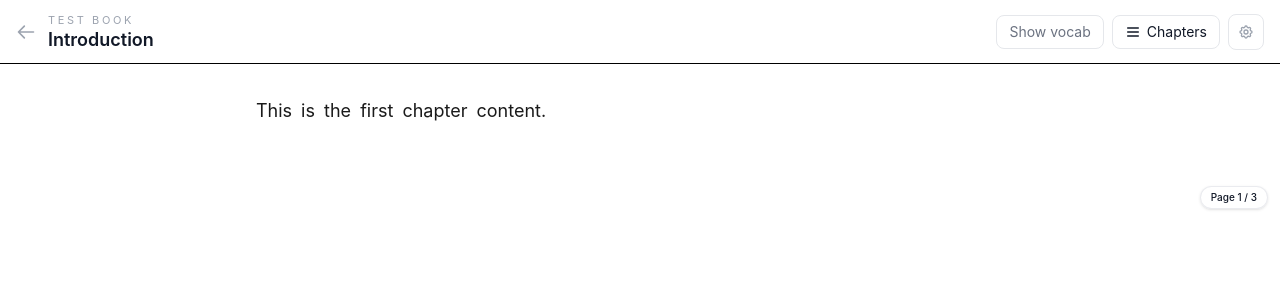
Test: ReaderPage › shows word popover when clicking a word
Click the text "first". click: (377,110)
box: [360,100,393,121]
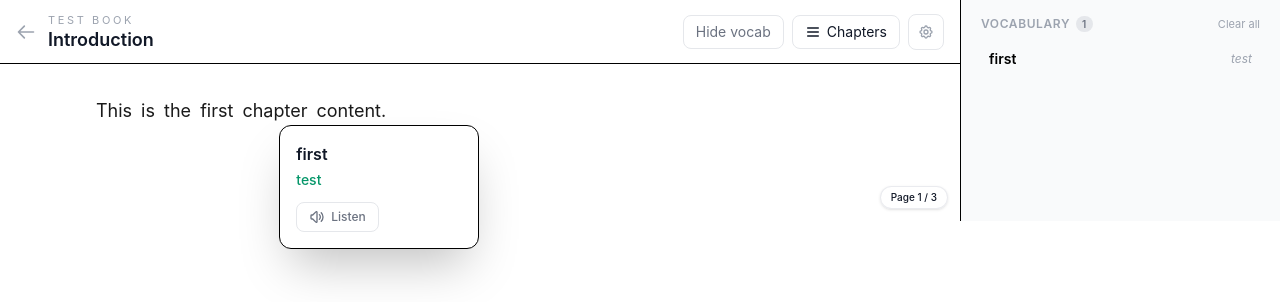
expect the button "Listen" is shown: met, box [296,202,379,232]
